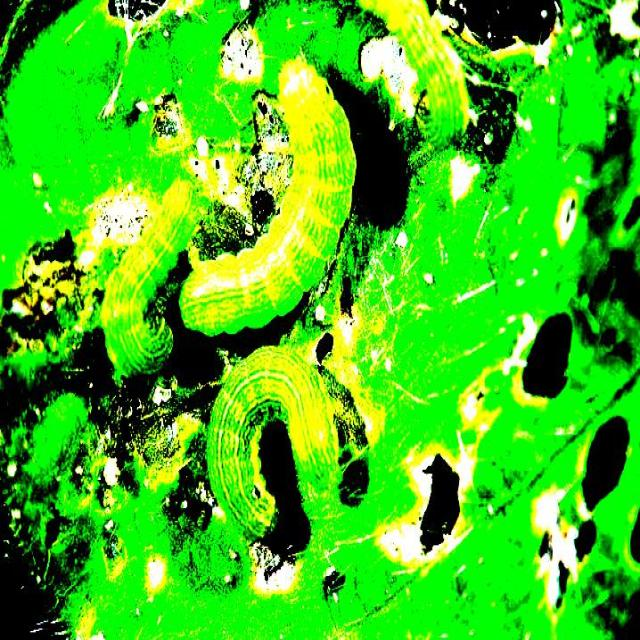Armyworm: (175, 49, 361, 354), (164, 319, 371, 551), (89, 149, 208, 390), (330, 1, 496, 144)
Armyworm_damage: (509, 466, 623, 640), (492, 272, 590, 440), (391, 418, 475, 604), (559, 402, 640, 521)
